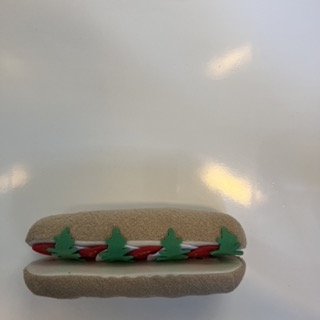sandwich: (25, 210, 246, 296)
